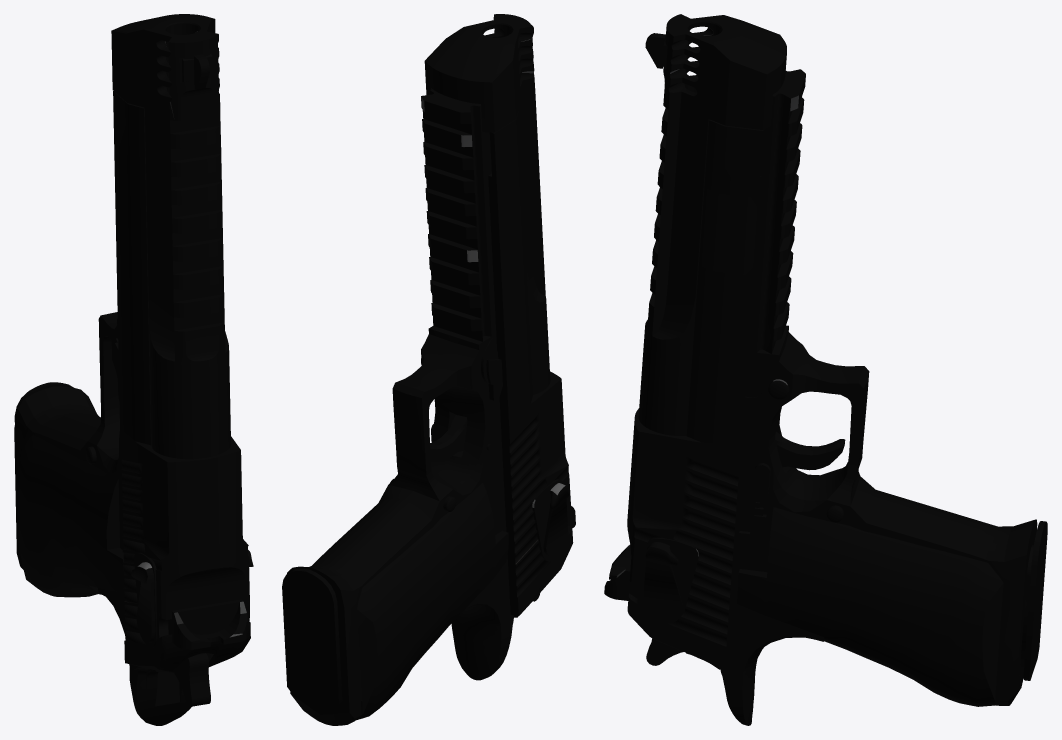
Rendered from DesertEagle.fbx.
The picture shows the model from 3 angles, left to right: view 1: azimuth 30°, elevation 25°; view 2: azimuth 150°, elevation 25°; view 3: azimuth 270°, elevation 25°; orthographic projection. The views are drawn at different scales.
Parts seen in each view (by area): view 1: asset_DesertEagle.001; view 2: asset_DesertEagle.001; view 3: asset_DesertEagle.001.
Part boxes in pixels (box(x1,y1,x2,y2)): asset_DesertEagle.001: box(14, 14, 253, 725); asset_DesertEagle.001: box(282, 14, 575, 725); asset_DesertEagle.001: box(604, 14, 1047, 725).
Size of the model in its own units: 0.0339 by 0.1656 by 0.0954.
